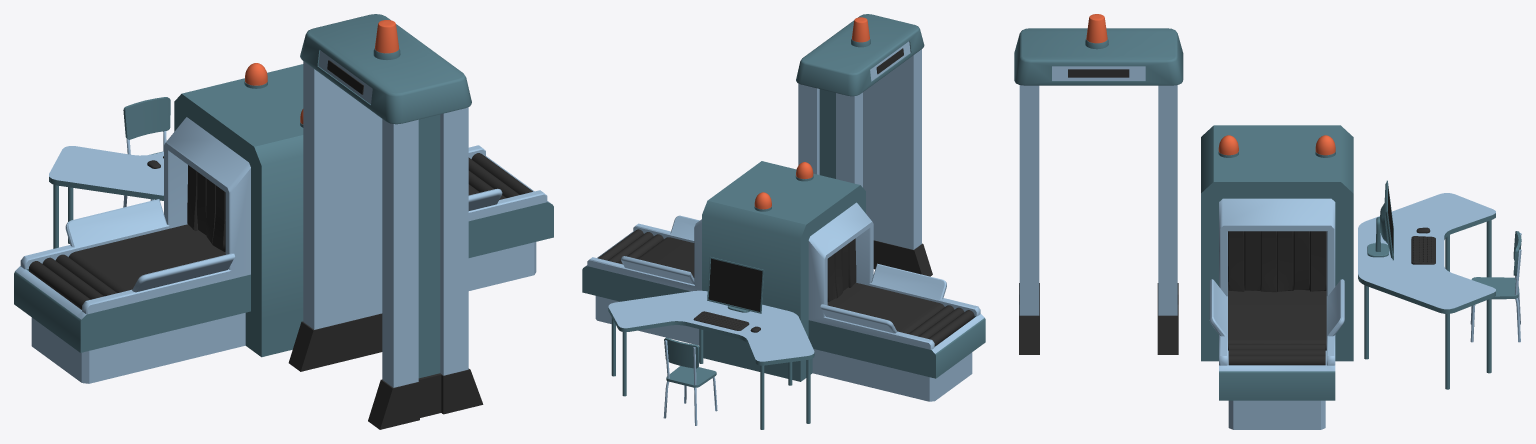
The model's file is airport_security_check.glb.
3 renders of one model, left to right at view 1: azimuth 30°, elevation 25°; view 2: azimuth 150°, elevation 25°; view 3: azimuth 270°, elevation 25°, orthographic. The views are drawn at different scales.
Visible parts, largest first — view 1: 09.SecurityCheck; view 2: 09.SecurityCheck; view 3: 09.SecurityCheck.
Boxes of the visible parts, <box> form: 09.SecurityCheck: <box>14,14,553,429</box>; 09.SecurityCheck: <box>582,14,985,429</box>; 09.SecurityCheck: <box>1014,14,1521,429</box>.
Size of what is drawn, in the model's own units: 4.95 by 3.61 by 5.25.
Materials: 1 (1 with a texture image).
